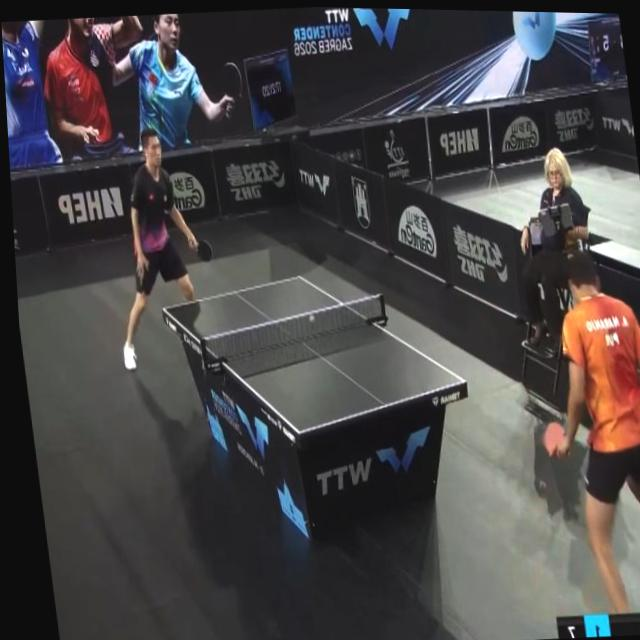TT Net: (198, 292, 391, 370)
TT Racket: (532, 415, 574, 459), (191, 234, 219, 267)
TT Table: (163, 275, 466, 432)
